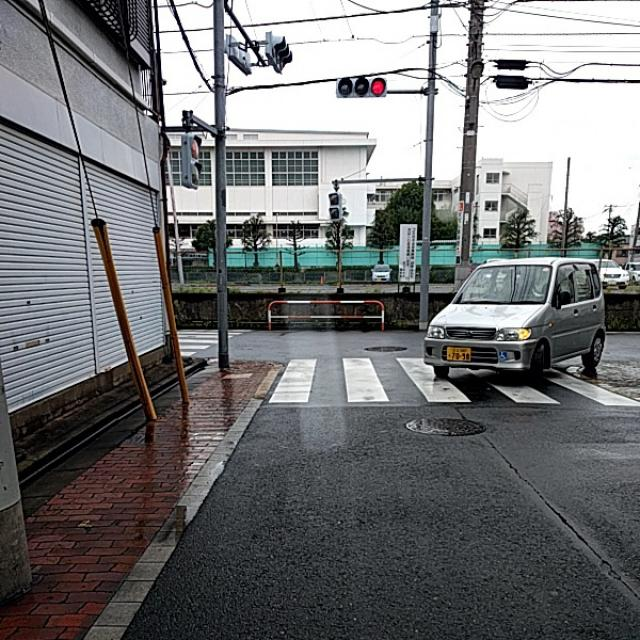pothole: (496, 458, 537, 508)
